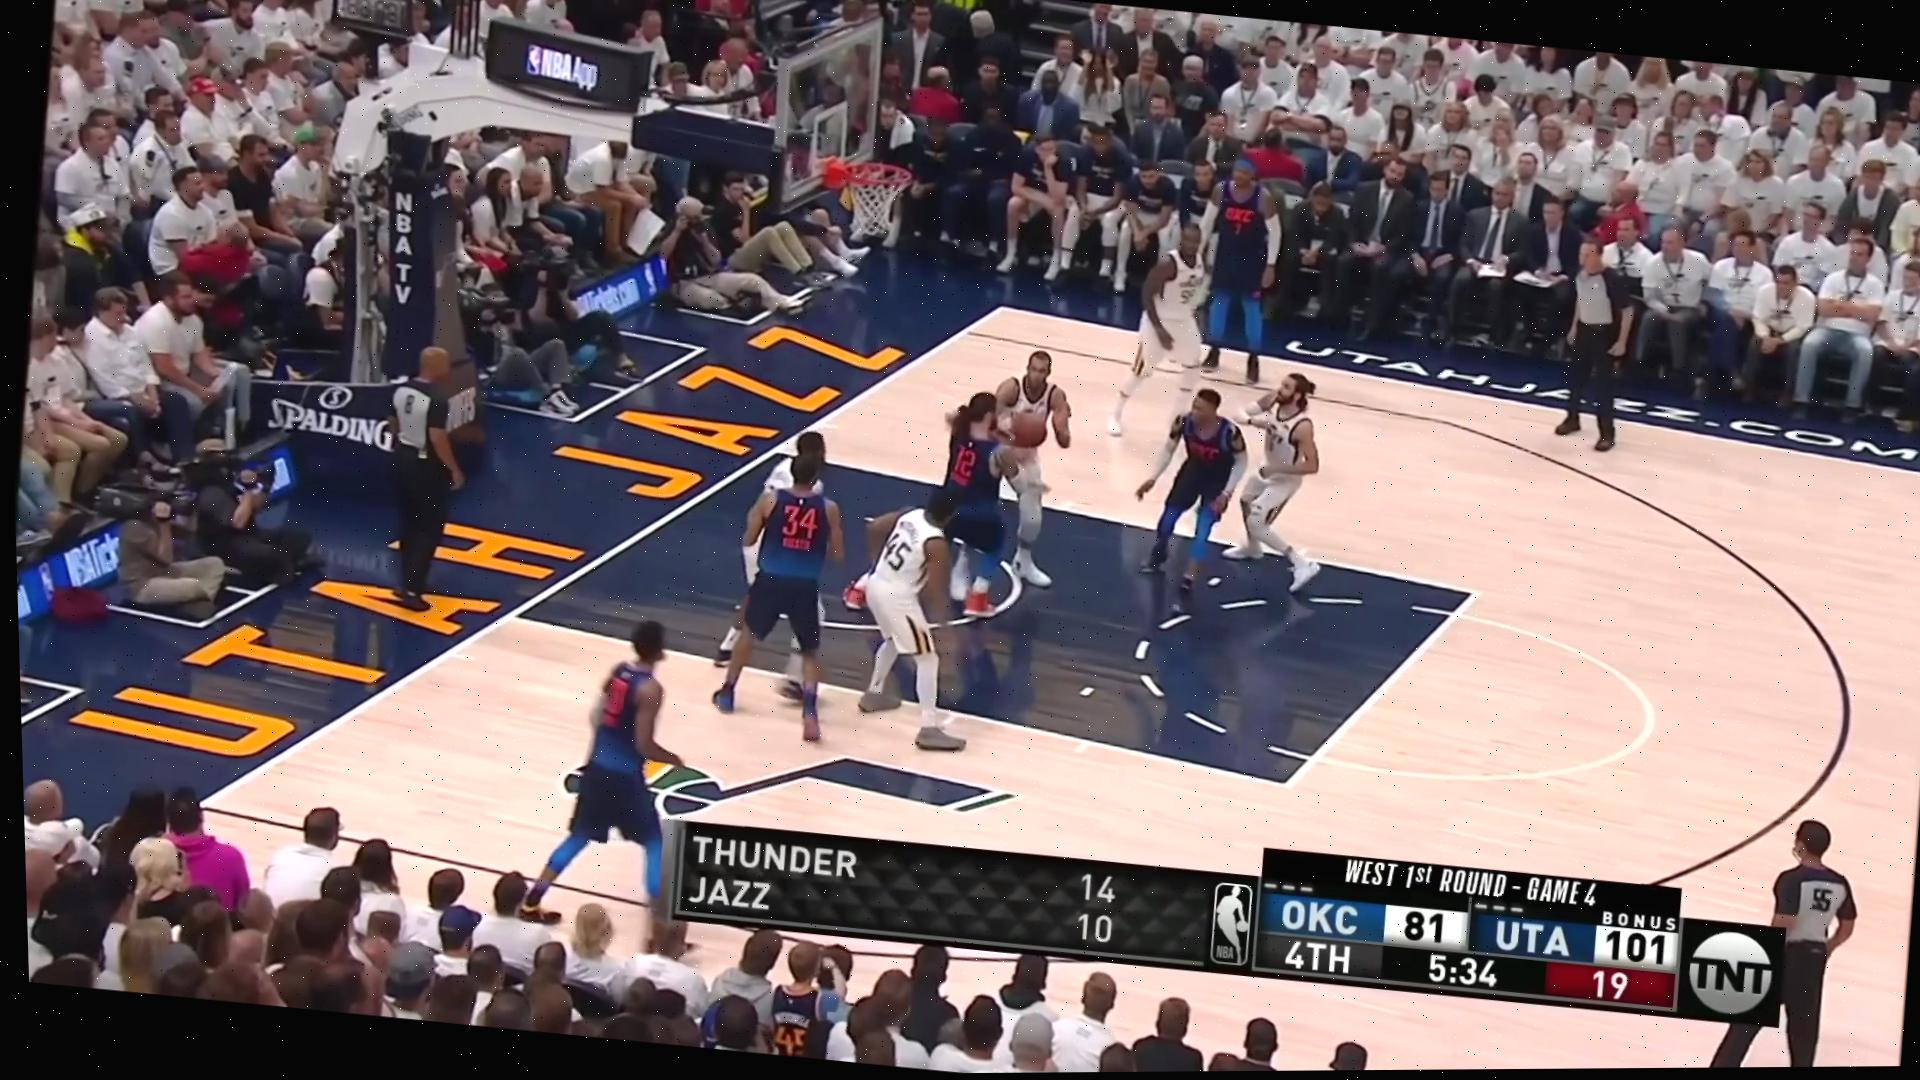foul: (905, 336, 1084, 609)
